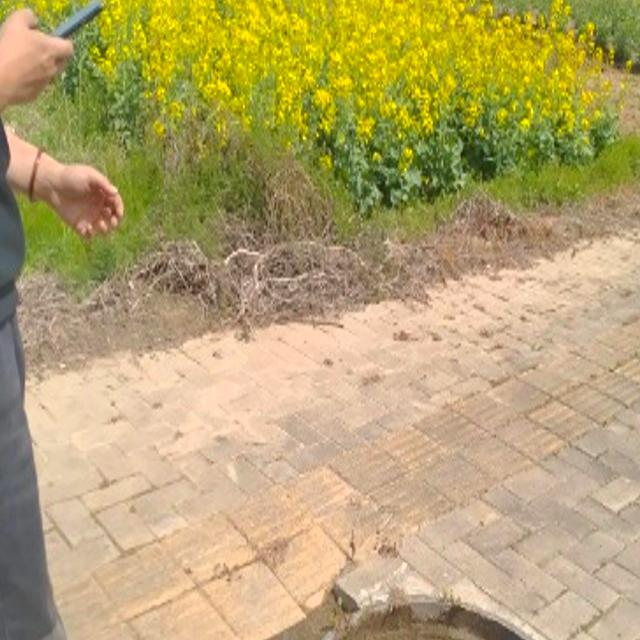lose: (295, 599, 594, 640)
